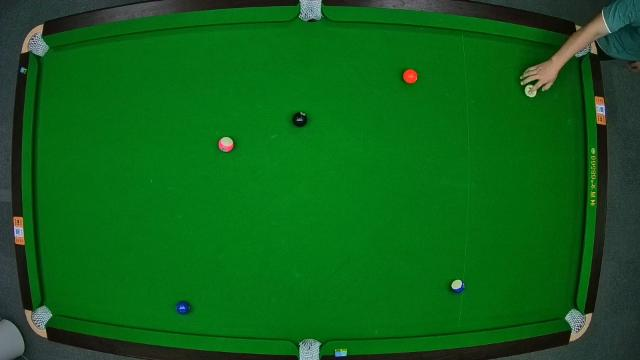bag1: (27, 36, 46, 54)
bag2: (300, 0, 322, 22)
bag4: (30, 307, 52, 329)
bag5: (298, 342, 324, 360)
bag6: (567, 310, 585, 332)
ball0: (524, 84, 540, 100)
ball10: (450, 279, 466, 295)
ball12: (217, 136, 235, 153)
ball2: (175, 300, 191, 316)
ball5: (403, 69, 419, 85)
ball8: (290, 112, 308, 128)
